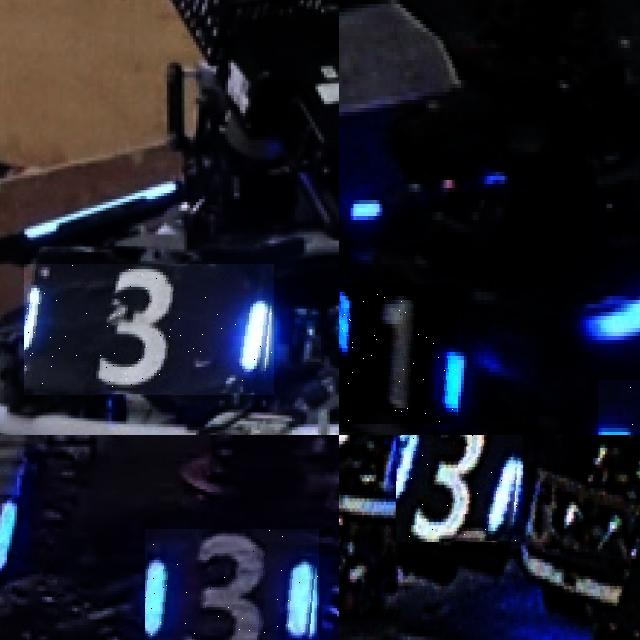B1: (339, 284, 456, 424)
B3: (24, 264, 274, 395), (144, 529, 319, 640), (395, 435, 523, 541)
